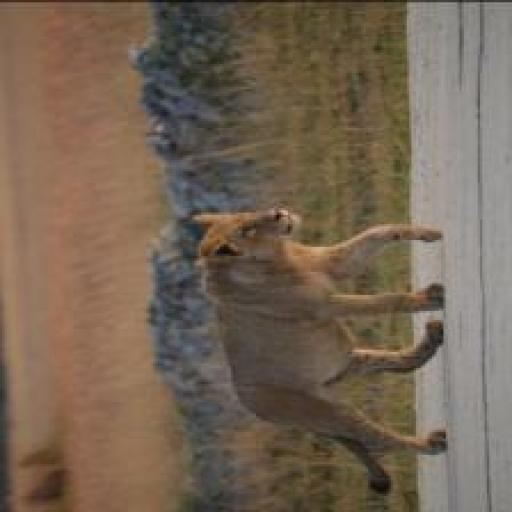lion: (190, 203, 458, 496)
